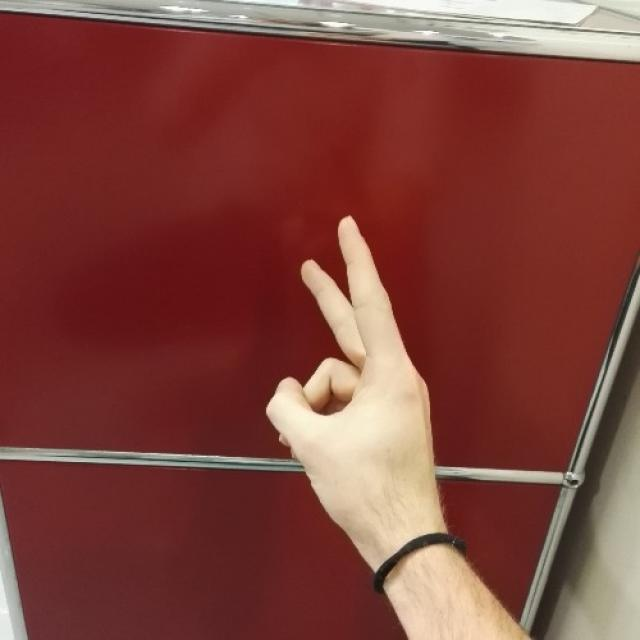scissors: (265, 216, 439, 486)
